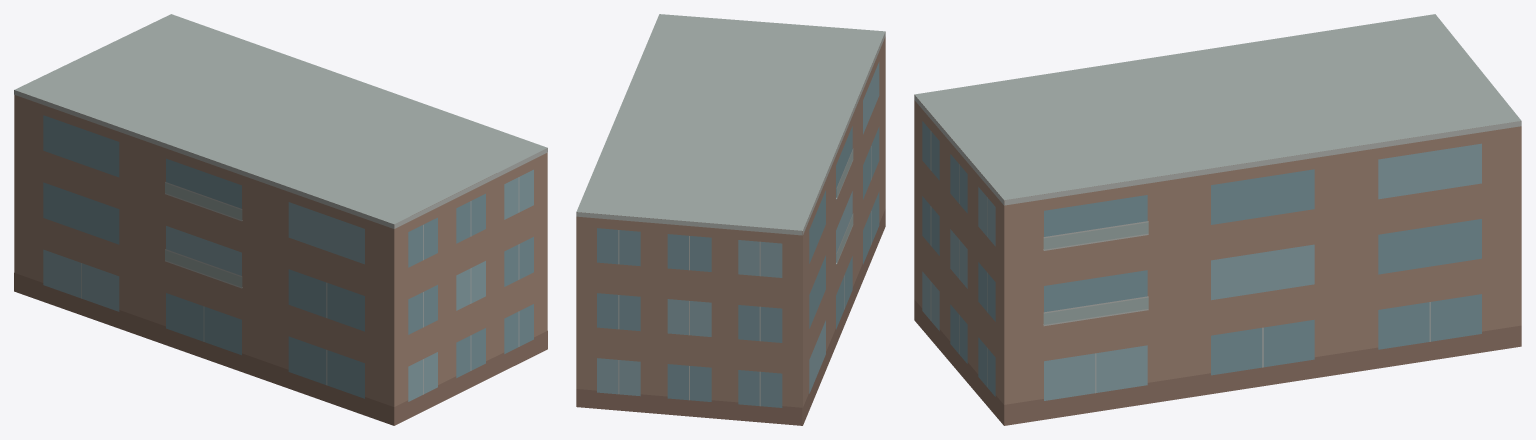
The model's file is survey-upis-32861181.glb.
The picture shows the model from 3 angles, left to right: view 1: azimuth 30°, elevation 25°; view 2: azimuth 150°, elevation 25°; view 3: azimuth 270°, elevation 25°; orthographic projection. The views are drawn at different scales.
Visible parts, largest first — view 1: survey-upis-32861181.tmp; view 2: survey-upis-32861181.tmp; view 3: survey-upis-32861181.tmp.
Part boxes in pixels (x1=…): survey-upis-32861181.tmp: x1=14, y1=14, x2=547, y2=425; survey-upis-32861181.tmp: x1=576, y1=14, x2=885, y2=425; survey-upis-32861181.tmp: x1=914, y1=14, x2=1521, y2=425.
Size of the model in its own units: 18.24 by 10.3 by 25.14.
